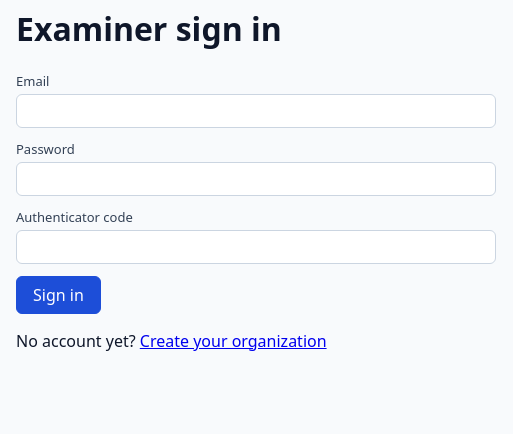
Test: LoginPage › tells an examiner who has not enrolled TOTP what to do
The width and height of the screenshot is (513, 434).
Type "a@example.com" into the field labelled "Email".
click(256, 111); type("a@example.com")  # box [16,94,496,128]
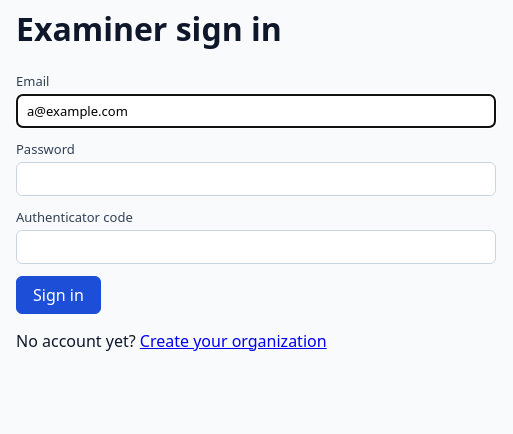
Type "hunter2hunter2" into the password field labelled "Password".
click(256, 179); type("hunter2hunter2")  # box [16,162,496,196]
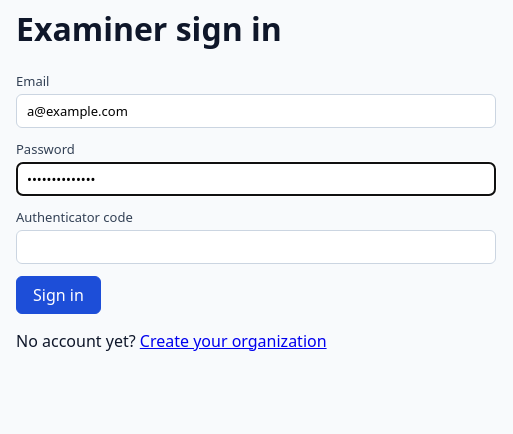
Type "123456" into the field labelled "Authenticator code".
click(256, 247); type("123456")  # box [16,230,496,264]
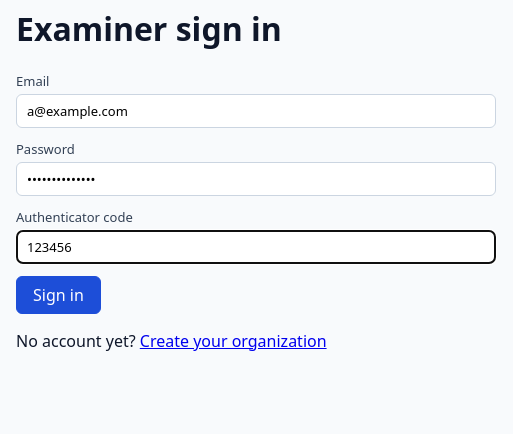
Click the button "Sign in".
click(58, 295)  # box [16,276,101,314]
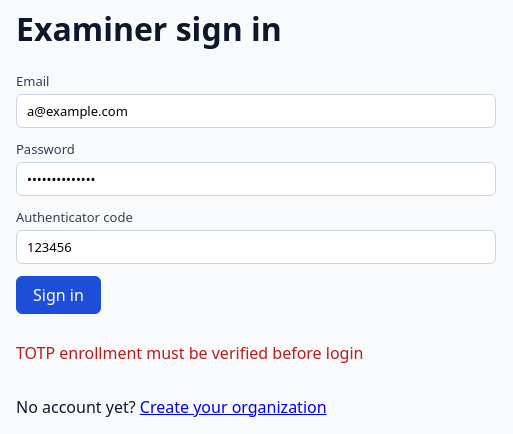
Result: the message shows "enrollment" at [16,342,364,364]
